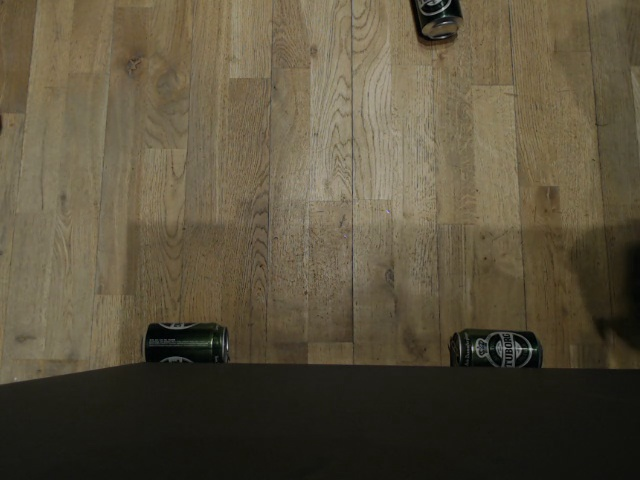beer: (140, 321, 230, 364), (449, 327, 543, 368), (410, 0, 464, 42)
